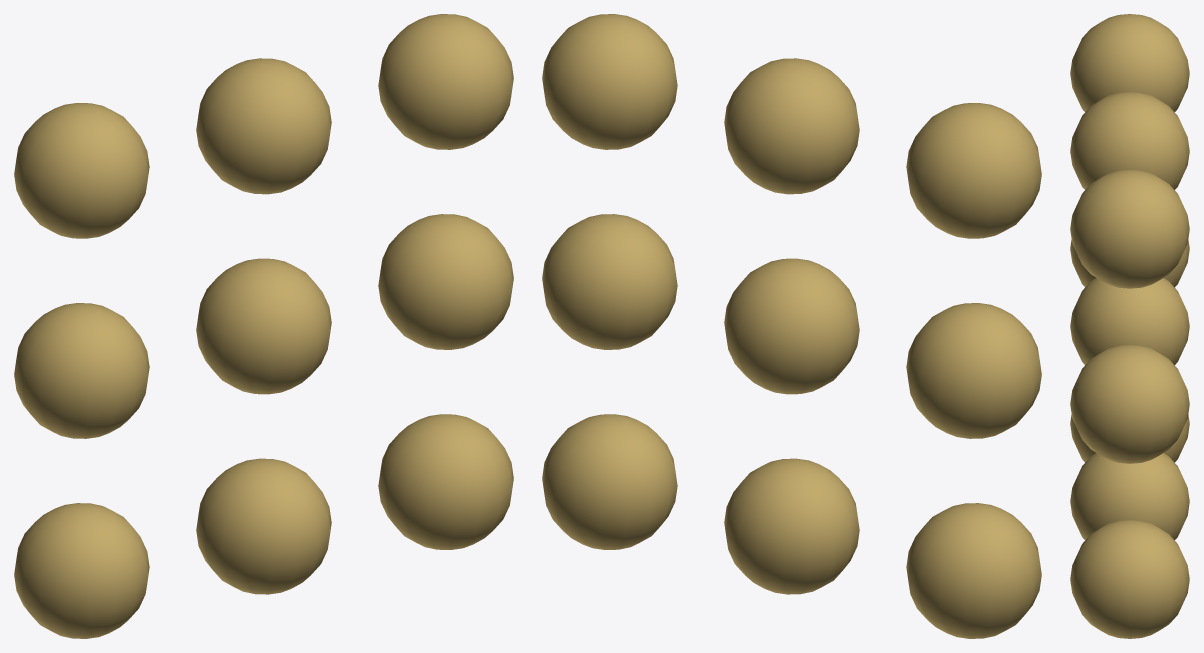
The picture shows the model from 3 angles, left to right: view 1: azimuth 30°, elevation 25°; view 2: azimuth 150°, elevation 25°; view 3: azimuth 270°, elevation 25°; orthographic projection. The views are drawn at different scales.
Size of the model in its own units: 1.06 by 1.1 by 0.26.
